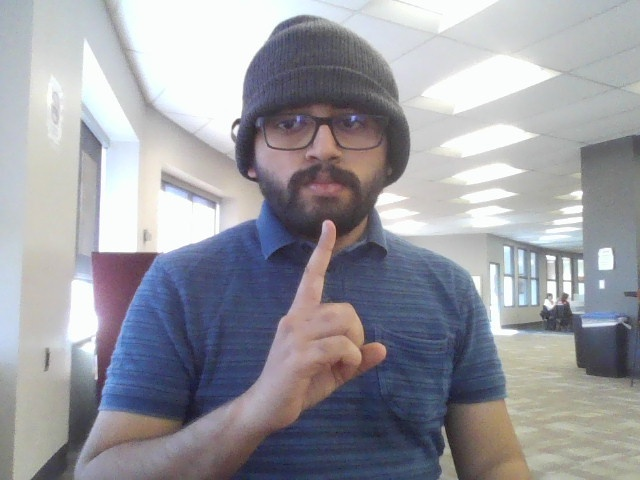one: (242, 214, 409, 438)
